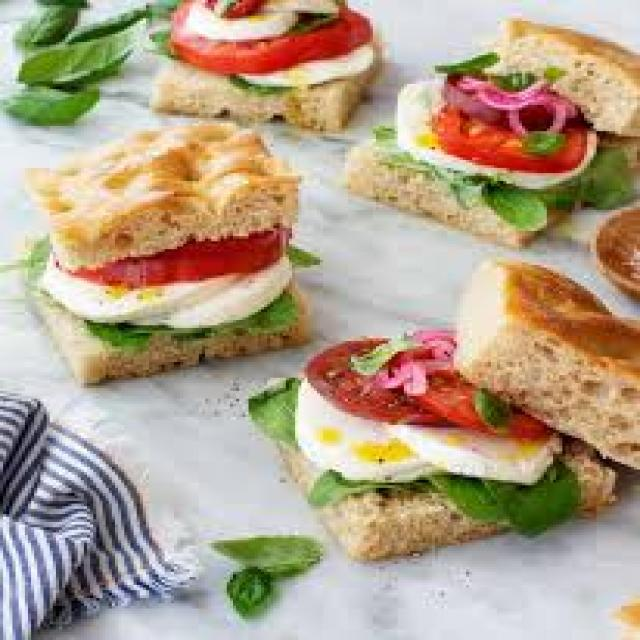Burger: (34, 133, 362, 374), (385, 24, 640, 244)
